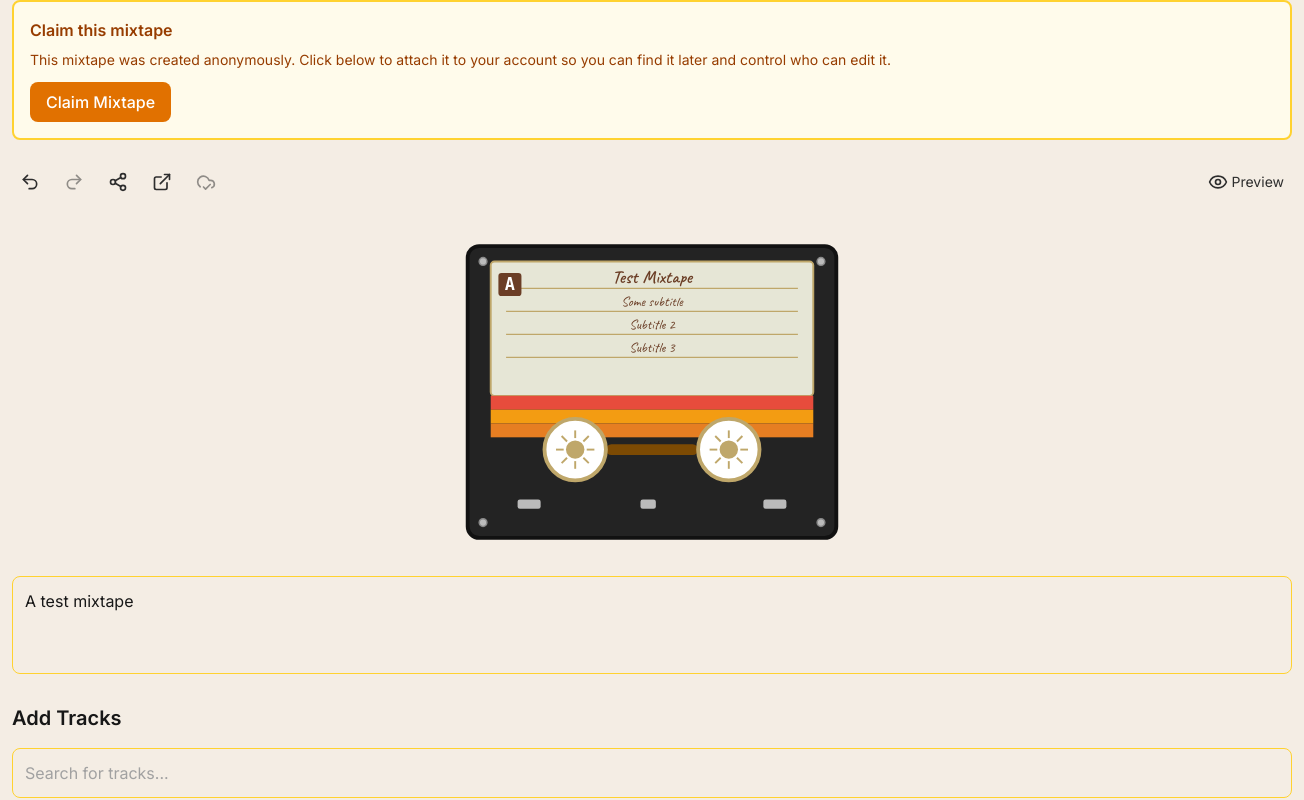
MixtapeEditor › Anonymous Mixtape Warning › shows claiming state when claim is in progress
This screenshot has width=1304, height=800.
Step 1. Click the button "Claim Mixtape" → (101,102), box [30,82,171,122]
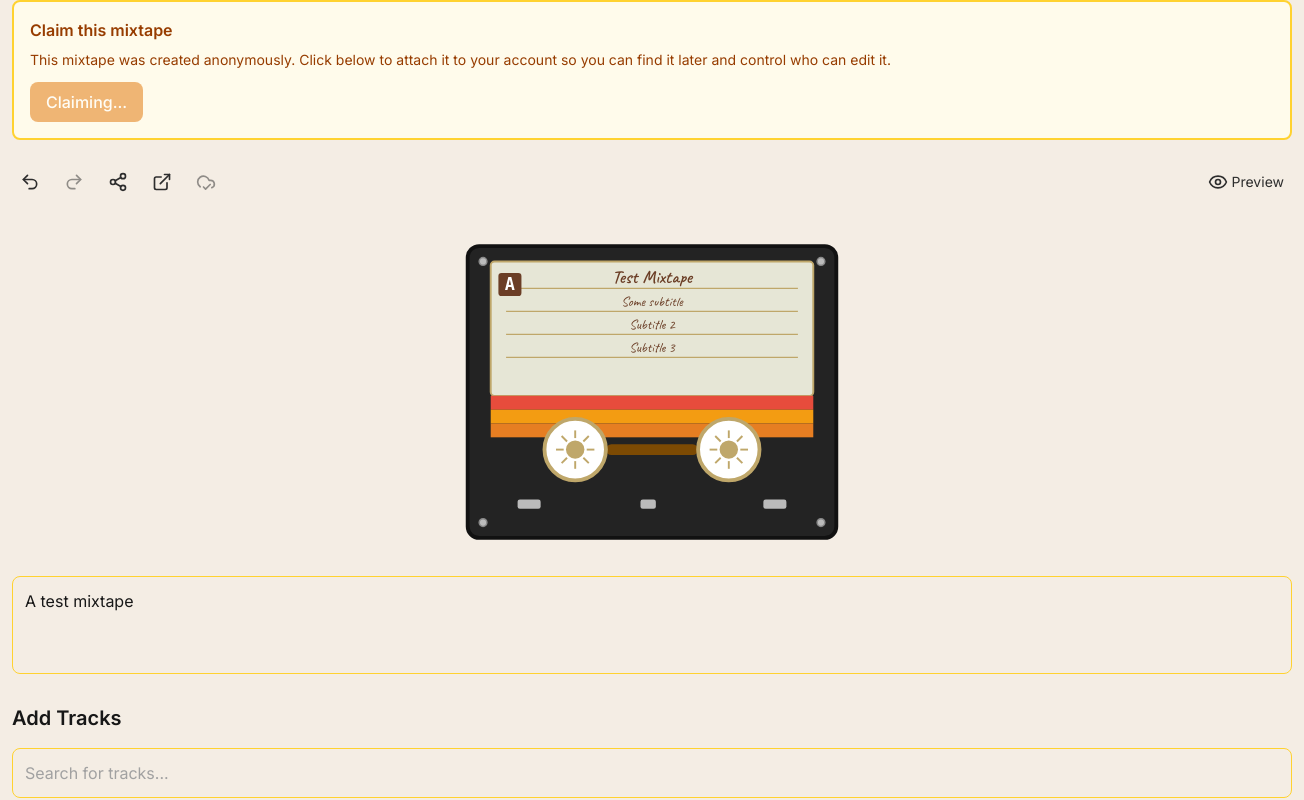
Result: the button "Claiming..." is disabled at [30,82,143,122]
